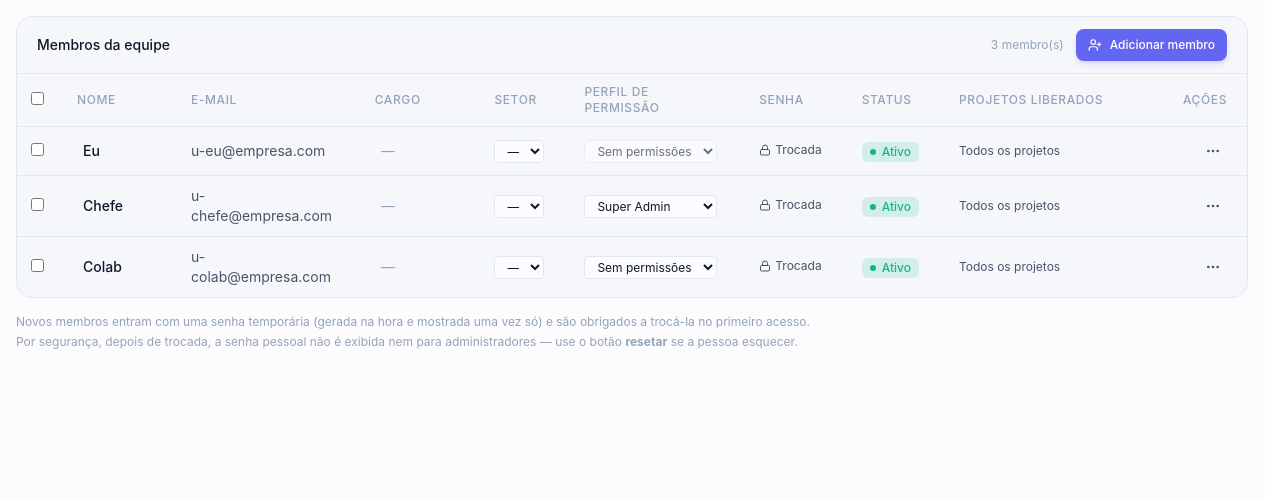
Scenario: acesso total: tudo liberado, inclusive sobre o Super Admin
Check: the field showing "Colab" next to "u-colab@empresa.com" is shown, box [77,255,151,279]
Check: the button "Adicionar membro" is shown, box [1076,29,1227,61]
What coordinates should you click on to do the following:
click the button titled "Ações" in the row of "u-chefe@empresa.com"
I would click on:
 (1213, 206)
Its box is [1199,192,1227,220].
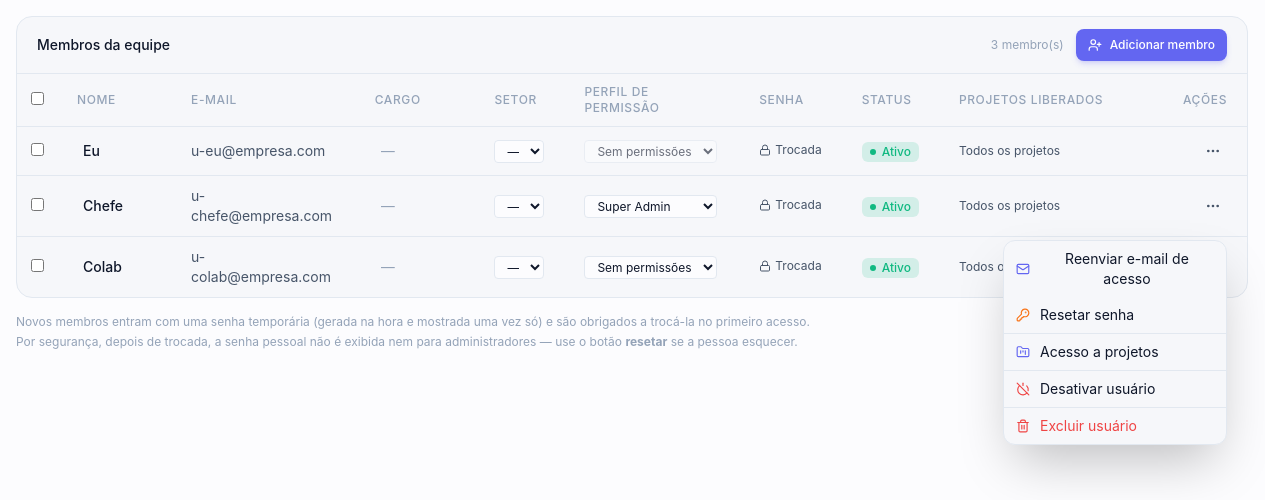
Check: the button "Reenviar e-mail de acesso" is shown, box [1004,241,1226,297]
Check: the button "Resetar senha" is shown, box [1004,297,1226,333]
Check: the button "Acesso a projetos" is shown, box [1004,334,1226,370]
